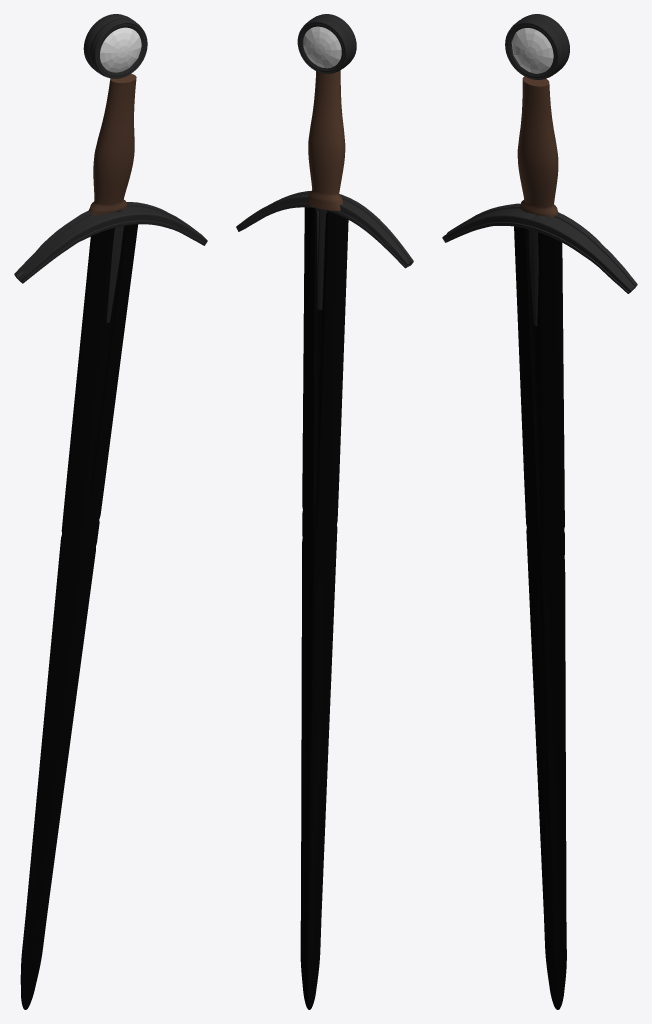
File: sword.FBX
3 renders of one model, left to right at view 1: azimuth 30°, elevation 25°; view 2: azimuth 150°, elevation 25°; view 3: azimuth 330°, elevation 25°, orthographic. The views are drawn at different scales.
Visible parts, largest first — view 1: Blade, Handle, prot, Outer ring, Ruby; view 2: Blade, Handle, prot, Outer ring, Ruby; view 3: Blade, prot, Handle, Outer ring, Ruby.
Boxes of the visible parts, bbox=[...] form: Blade: bbox=[20, 224, 138, 1009]; Handle: bbox=[88, 73, 136, 215]; prot: bbox=[14, 202, 207, 322]; Outer ring: bbox=[83, 14, 147, 78]; Ruby: bbox=[100, 27, 141, 72]; Blade: bbox=[300, 207, 348, 1009]; Handle: bbox=[306, 70, 345, 210]; prot: bbox=[236, 190, 413, 309]; Outer ring: bbox=[297, 14, 356, 73]; Ruby: bbox=[303, 26, 341, 68]; Blade: bbox=[514, 226, 566, 1009]; prot: bbox=[442, 203, 637, 326]; Handle: bbox=[517, 76, 558, 217]; Outer ring: bbox=[505, 14, 569, 79]; Ruby: bbox=[511, 28, 553, 73].
Size of the model in its own units: 162 by 846 by 96.95.
